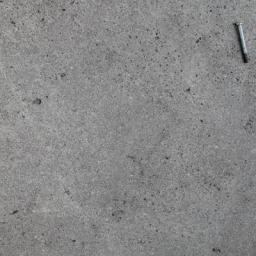FOD: (231, 19, 256, 67)
